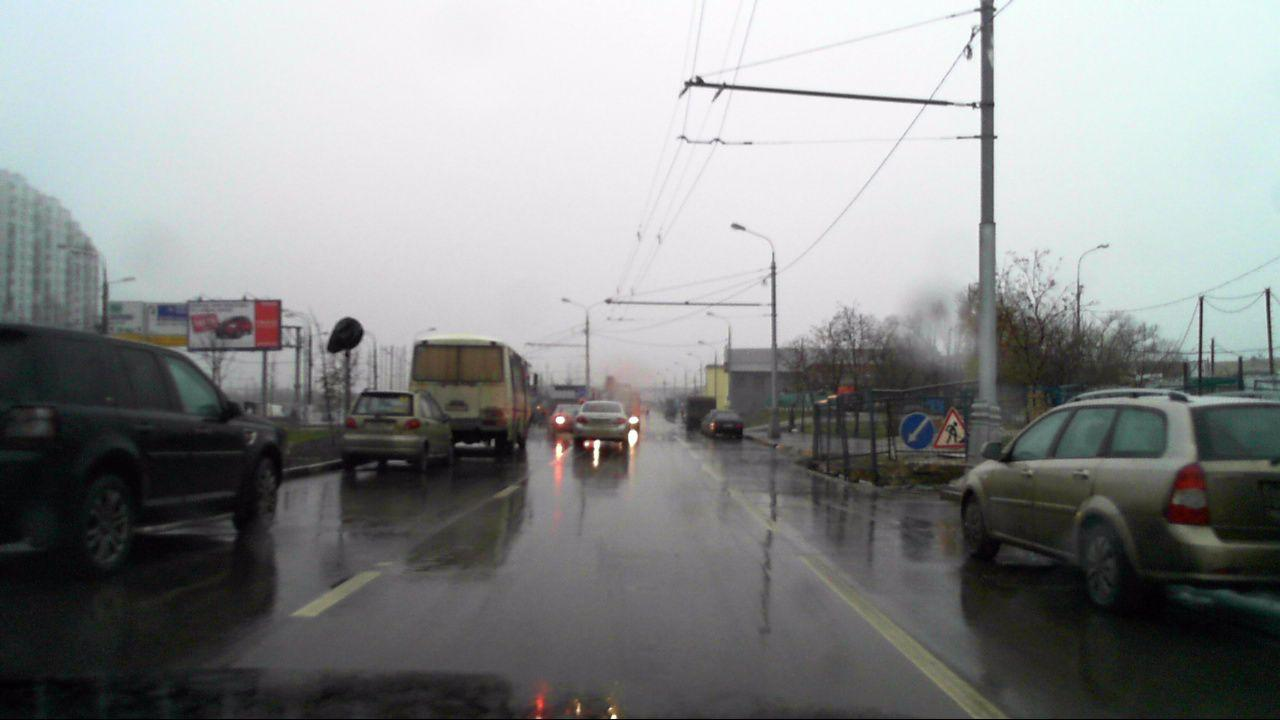road_sign: (931, 406, 966, 447), (900, 412, 935, 450)
